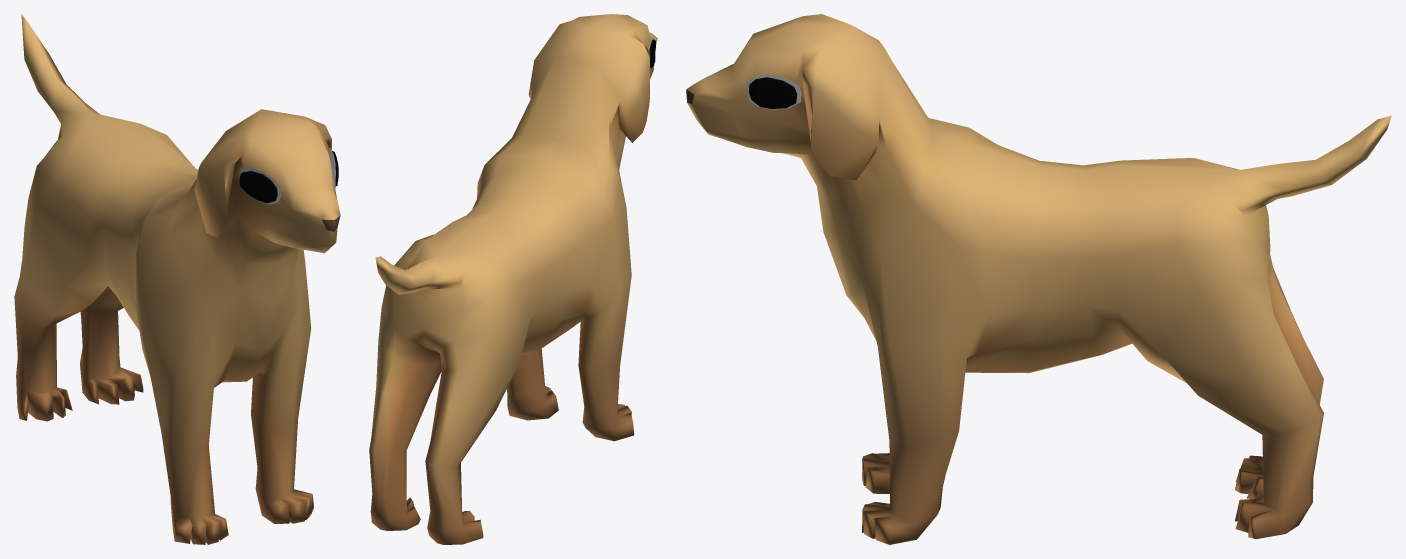
The model's file is animals-animals-labradorpuppy_v1.glb.
The picture shows the model from 3 angles, left to right: view 1: azimuth 30°, elevation 25°; view 2: azimuth 150°, elevation 25°; view 3: azimuth 270°, elevation 25°; orthographic projection. The views are drawn at different scales.
Parts seen in each view (by area): view 1: LabradorPuppy.001; view 2: LabradorPuppy.001; view 3: LabradorPuppy.001.
Boxes of the visible parts, left/top/right/bottom form: LabradorPuppy.001: left=14, top=14, right=340, bottom=544; LabradorPuppy.001: left=369, top=14, right=657, bottom=544; LabradorPuppy.001: left=686, top=14, right=1391, bottom=544.
Size of the model in its own units: 0.1839 by 0.4855 by 0.6435.
